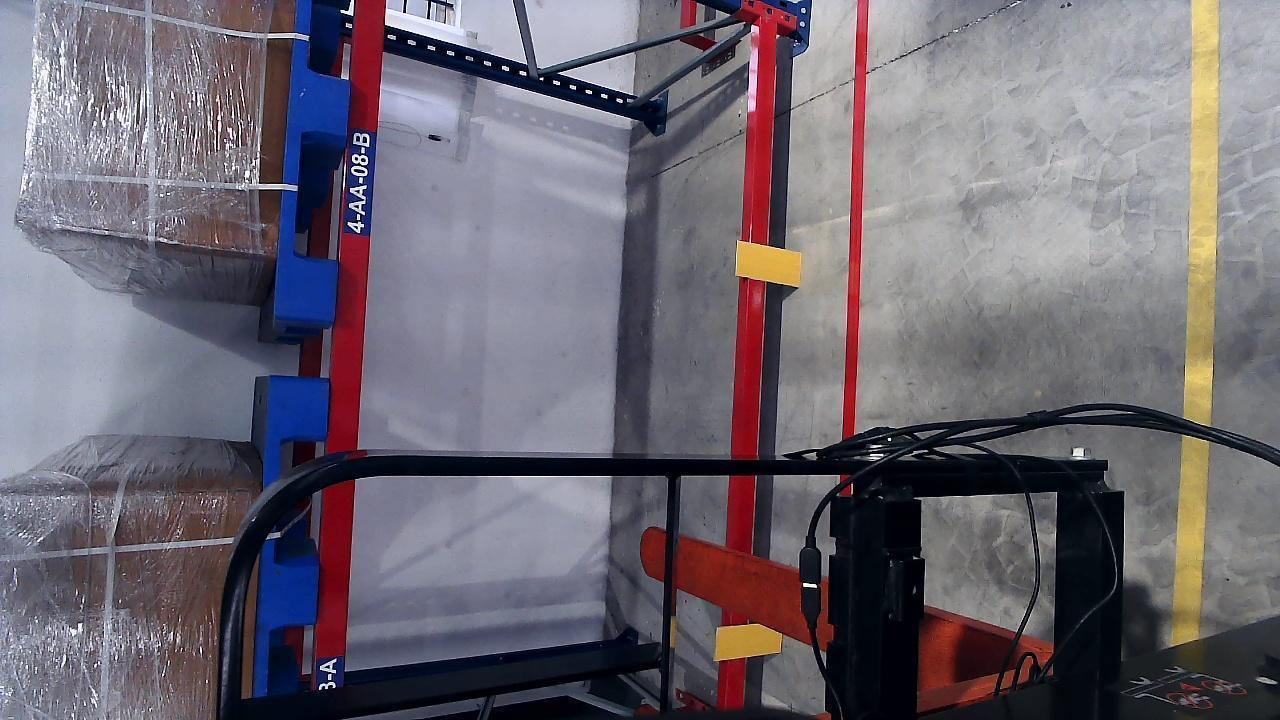red_line: (842, 6, 868, 439)
yellow_line: (1171, 0, 1213, 643)
